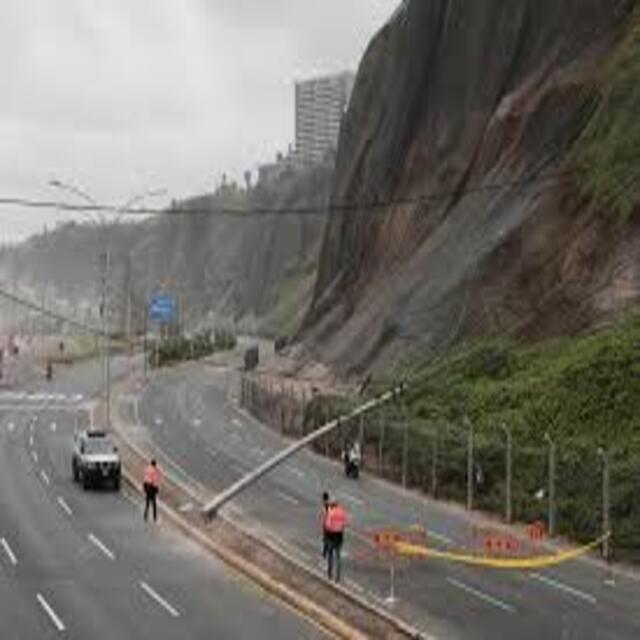Inclined Pole: (199, 361, 455, 525)
